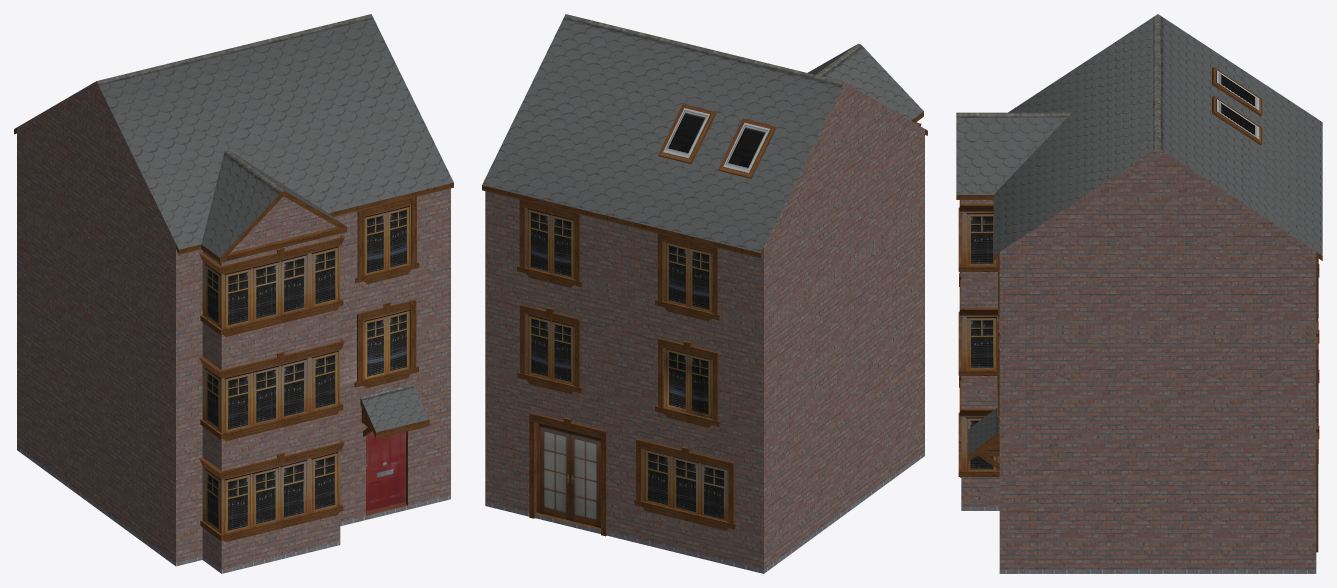
File: modernterrace3story4cm.FBX
3 views of the same model, side by side, from view 1: azimuth 30°, elevation 25°; view 2: azimuth 150°, elevation 25°; view 3: azimuth 270°, elevation 25° (orthographic).
Visible parts, largest first — view 1: Box001; view 2: Box001; view 3: Box001.
Part boxes in pixels (x1,y1,x2,y2): Box001: (14, 14, 453, 573); Box001: (482, 14, 927, 573); Box001: (956, 14, 1322, 573).
Bounding box in the file's own units: 800 × 1188 × 925.
